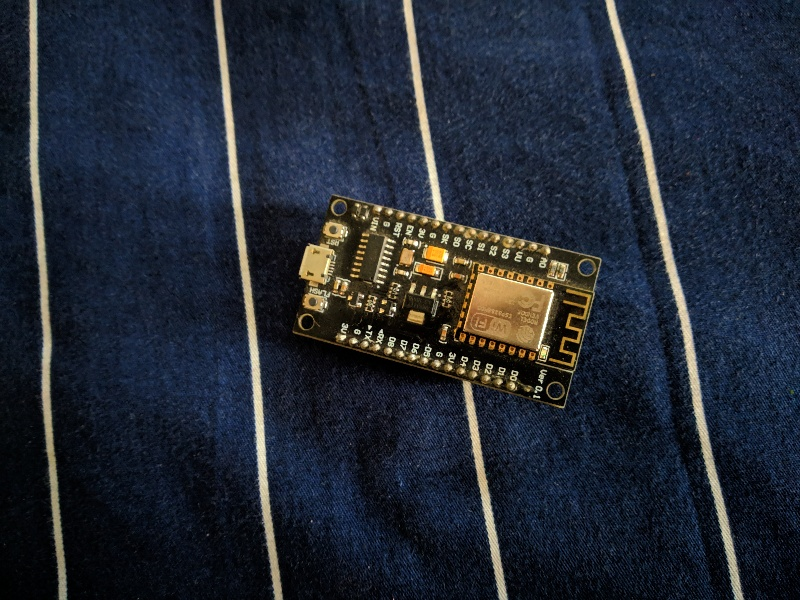NodeMCU: (286, 187, 608, 419)
